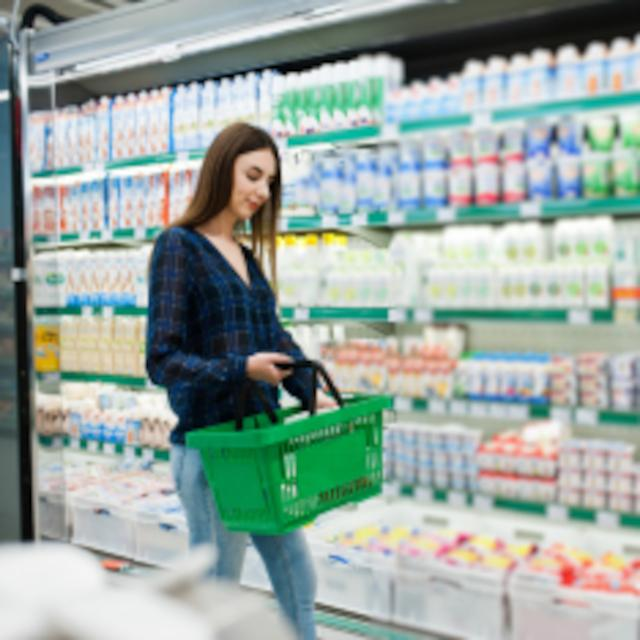kobieta: (139, 111, 337, 635)
